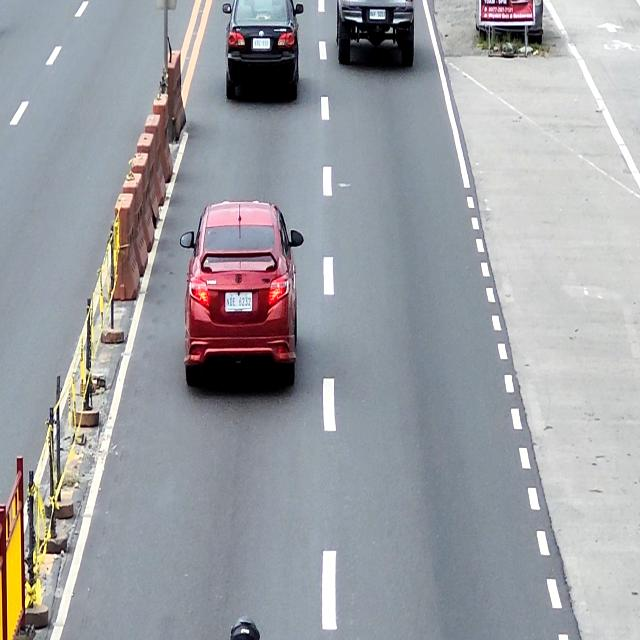Car: (180, 202, 304, 388), (222, 0, 304, 101), (336, 0, 415, 65)
License-Plate: (225, 292, 253, 313), (252, 37, 270, 49), (369, 8, 386, 20)
